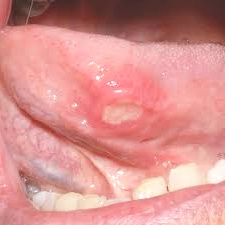Ulcer: (84, 93, 160, 133)
